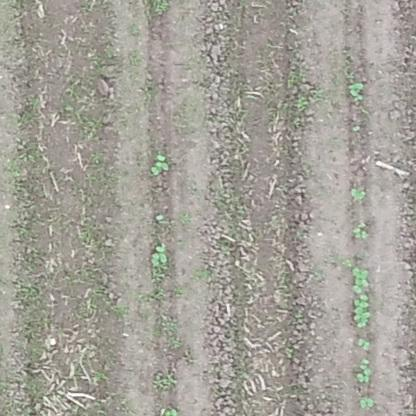vc: (350, 264, 373, 330), (152, 243, 171, 268), (355, 358, 372, 384), (349, 80, 364, 103), (152, 155, 169, 175), (348, 185, 366, 203), (356, 337, 373, 354), (351, 223, 369, 238), (358, 395, 378, 408)
